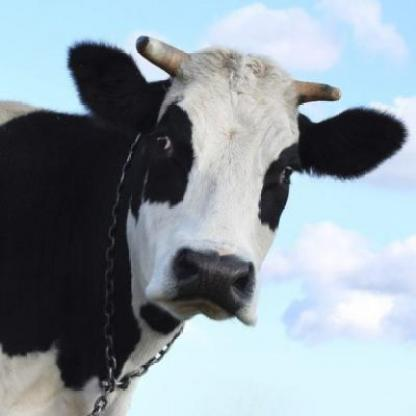lower: (178, 301, 222, 315)
mouth: (146, 242, 257, 329)
upper: (208, 268, 224, 284)
